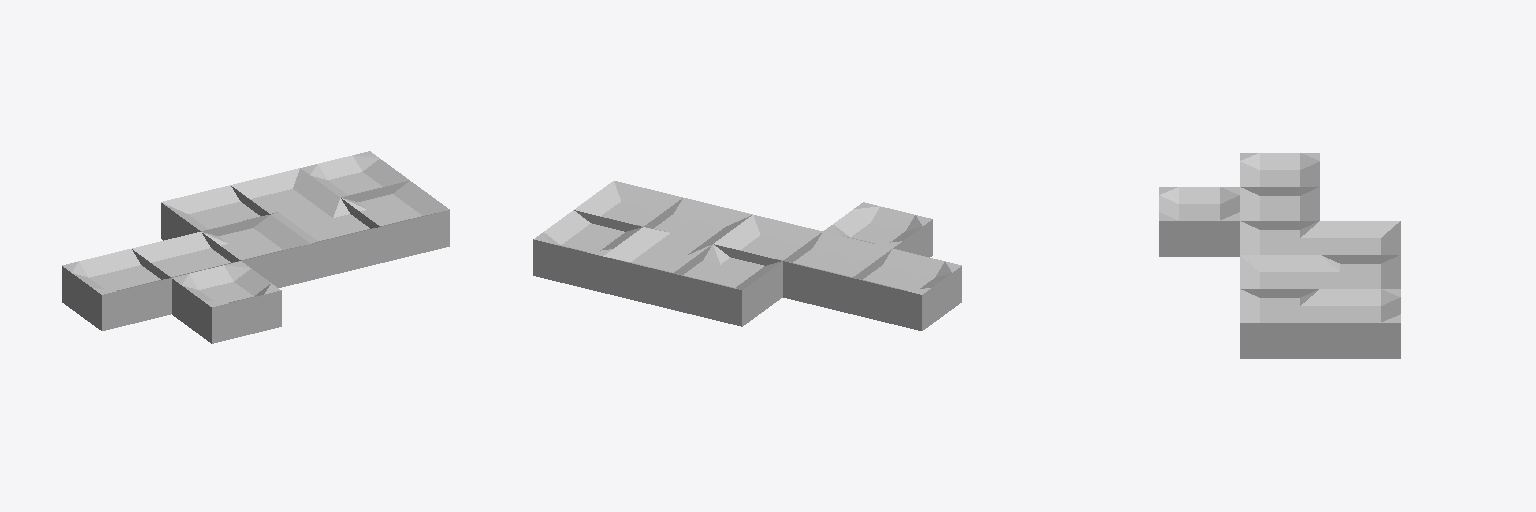
File: 35s_path.obj
3 renders of one model, left to right at view 1: azimuth 30°, elevation 25°; view 2: azimuth 150°, elevation 25°; view 3: azimuth 270°, elevation 25°, orthographic.
Parts seen in each view (by area): view 1: hole.1.2_Cube.220, ending.0.3_ending.437, corner.4.3_corner.1087, corner.3.3_corner.1085, corner.2.3_corner.1083, corner.3.4_corner.1086, corner.2.4_corner.1084, through.1.3_through.227, ending.4.4_ending.438; view 2: ending.0.3_ending.437, corner.2.4_corner.1084, through.1.3_through.227, corner.3.4_corner.1086, ending.4.4_ending.438, hole.1.2_Cube.220, corner.3.3_corner.1085, corner.4.3_corner.1087, corner.2.3_corner.1083; view 3: hole.1.2_Cube.220, ending.4.4_ending.438, corner.4.3_corner.1087, through.1.3_through.227, corner.3.3_corner.1085, corner.2.4_corner.1084, corner.3.4_corner.1086, ending.0.3_ending.437, corner.2.3_corner.1083.
Part boxes in pixels (bbox=[...]): hole.1.2_Cube.220: bbox=[172, 261, 281, 343]; ending.0.3_ending.437: bbox=[62, 249, 171, 330]; corner.4.3_corner.1087: bbox=[341, 181, 449, 262]; corner.3.3_corner.1085: bbox=[272, 198, 380, 279]; corner.2.3_corner.1083: bbox=[201, 215, 310, 287]; corner.3.4_corner.1086: bbox=[231, 168, 339, 218]; corner.2.4_corner.1084: bbox=[161, 185, 268, 240]; through.1.3_through.227: bbox=[132, 232, 240, 279]; ending.4.4_ending.438: bbox=[301, 151, 409, 197]; ending.0.3_ending.437: bbox=[852, 249, 961, 330]; corner.2.4_corner.1084: bbox=[673, 244, 782, 326]; through.1.3_through.227: bbox=[783, 232, 891, 313]; corner.3.4_corner.1086: bbox=[603, 227, 712, 309]; ending.4.4_ending.438: bbox=[533, 210, 642, 292]; hole.1.2_Cube.220: bbox=[823, 202, 932, 257]; corner.3.3_corner.1085: bbox=[644, 198, 752, 248]; corner.4.3_corner.1087: bbox=[574, 181, 682, 231]; corner.2.3_corner.1083: bbox=[714, 215, 822, 265]; hole.1.2_Cube.220: bbox=[1159, 187, 1239, 256]; ending.4.4_ending.438: bbox=[1320, 289, 1400, 358]; corner.4.3_corner.1087: bbox=[1240, 289, 1319, 358]; through.1.3_through.227: bbox=[1240, 187, 1319, 229]; corner.3.3_corner.1085: bbox=[1240, 255, 1319, 297]; corner.2.4_corner.1084: bbox=[1320, 221, 1400, 254]; corner.3.4_corner.1086: bbox=[1320, 255, 1400, 288]; ending.0.3_ending.437: bbox=[1240, 153, 1319, 186]; corner.2.3_corner.1083: bbox=[1240, 221, 1319, 254].
Bounding box in the file's own units: 10 × 1 × 6.